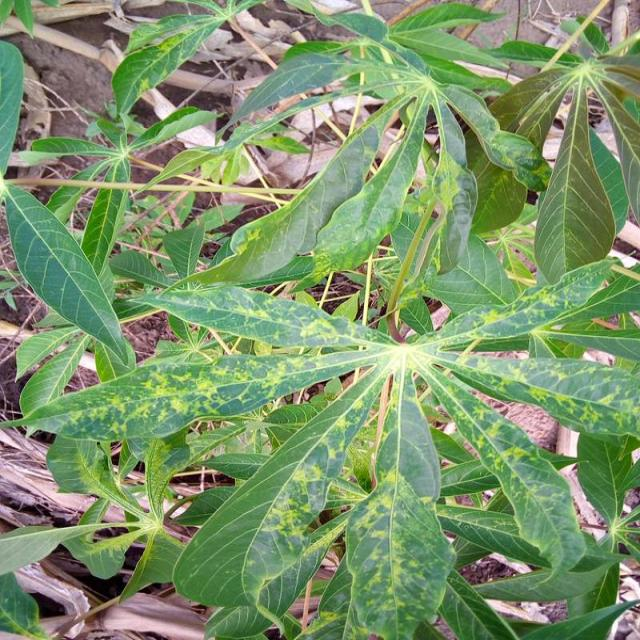cassava leaf: (1, 1, 638, 638), (3, 180, 130, 376)
